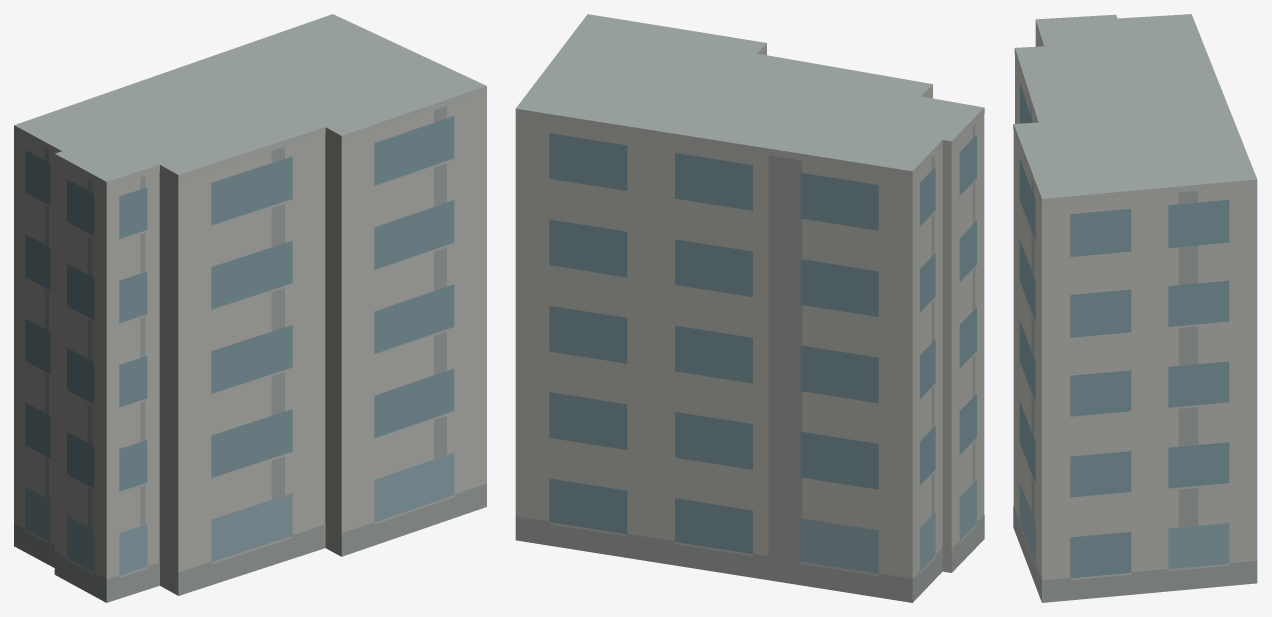
The model's file is survey-upis-32803477.glb.
3 views of the same model, side by side, from view 1: azimuth 30°, elevation 25°; view 2: azimuth 150°, elevation 25°; view 3: azimuth 270°, elevation 25° (orthographic). The views are drawn at different scales.
Visible parts, largest first — view 1: survey-upis-32803477.tmp; view 2: survey-upis-32803477.tmp; view 3: survey-upis-32803477.tmp.
Boxes of the visible parts, bbox=[...] form: survey-upis-32803477.tmp: bbox=[14, 14, 486, 602]; survey-upis-32803477.tmp: bbox=[515, 14, 984, 602]; survey-upis-32803477.tmp: bbox=[1013, 14, 1257, 602].
Size of the model in its own units: 15.62 by 15.9 by 8.71.
